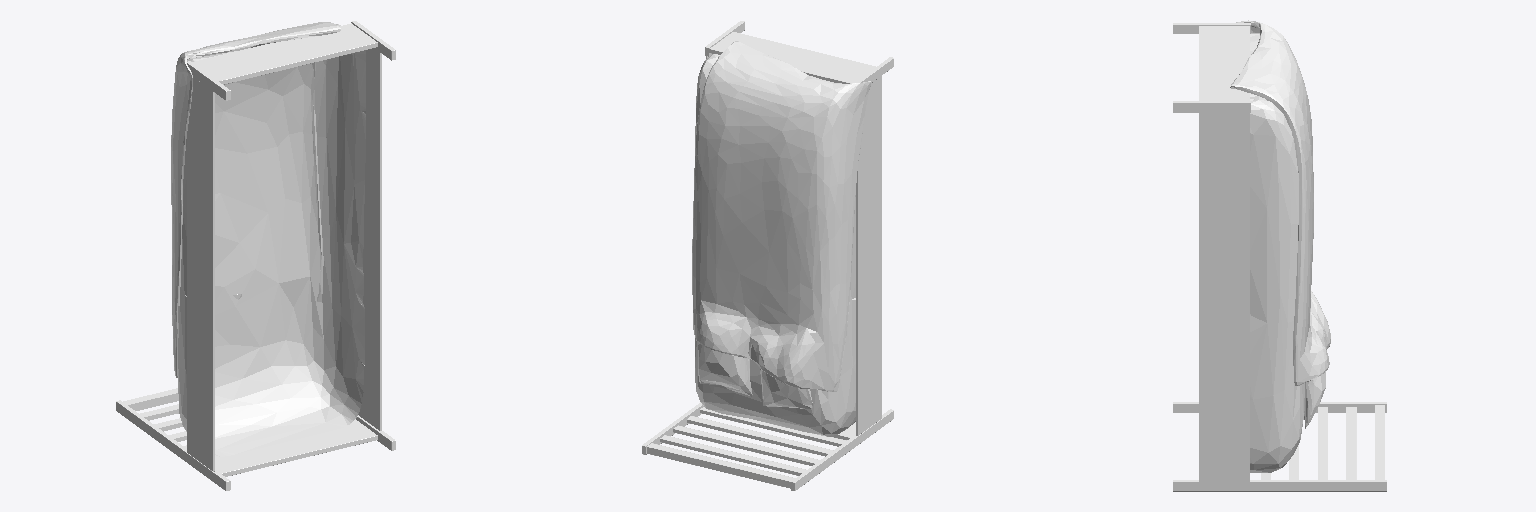
robot.urdf — bed:
<?xml version="1.0" ?>
<robot name="bed">

  <material name="white">
    <color rgba="1 1 1 1"/>
  </material>

  <link name="root">
    <inertial>
      <mass value="0"/>
      <origin rpy="0 0 0" xyz="0 0 0"/>
      <inertia ixx="0.01" ixy="0.0" ixz="0.0" iyy="0.01" iyz="0.0" izz="0.01"/>
    </inertial>
    <visual>
      <origin rpy="0 0 0" xyz="0 0 0"/>
      <geometry>
        <mesh filename="bed_single_reduced.obj" scale="1.1 1.1 1.1"/>
      </geometry>
      <material name="white"/>
    </visual>
    <collision>
      <origin rpy="0 0 0" xyz="0 0 0"/>
      <geometry>
        <mesh filename="bed_single_reduced_vhacd.obj" scale="1.1 1.1 1.1"/>
      </geometry>
    </collision>
  </link>
</robot>

--- What the picture shows (computed from the rendered views, not written in the file) ---
The picture shows the robot from 3 angles, left to right: view 1: azimuth 30°, elevation 25°; view 2: azimuth 150°, elevation 25°; view 3: azimuth 270°, elevation 25°; orthographic projection.
Model bed with 1 links and 0 joints (none), rooted at root, posed every joint at zero.
Visible links, largest first — view 1: root; view 2: root; view 3: root.
Link boxes in pixels (x1=…): root: x1=116, y1=21, x2=395, y2=490; root: x1=642, y1=21, x2=893, y2=490; root: x1=1173, y1=20, x2=1386, y2=491.
Size in the robot's own frame: 1.06 by 1.16 by 2.36 metres.
1 mesh visuals loaded from 1 distinct referenced files (1 OBJ).